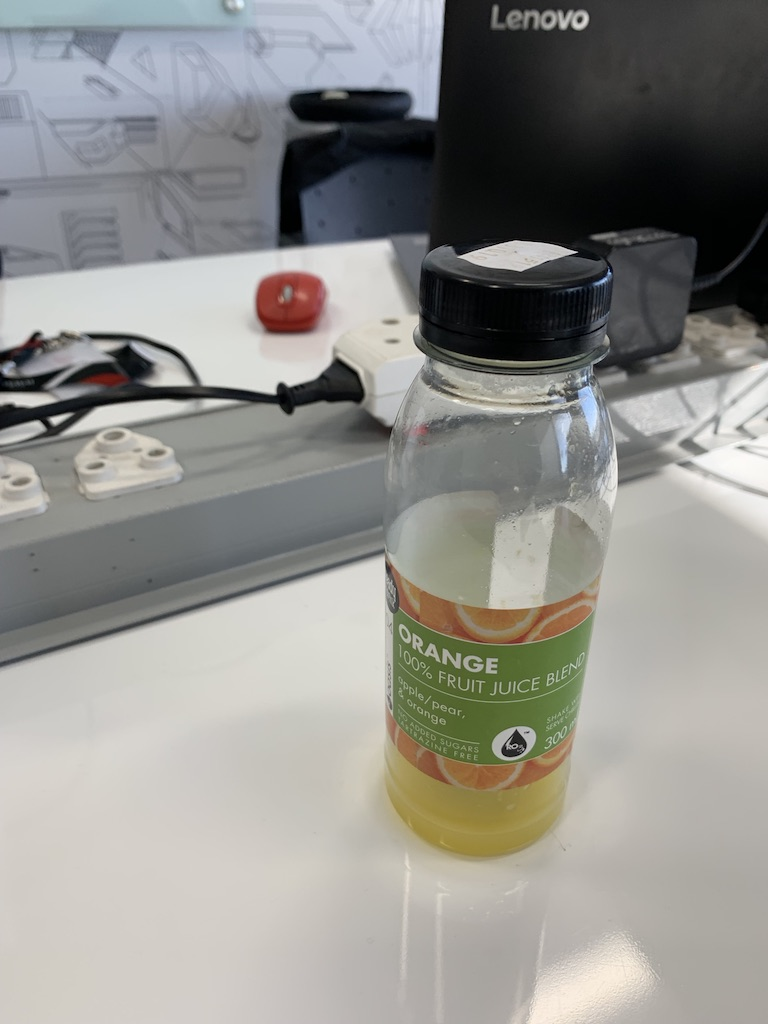bottle: (368, 217, 630, 883)
